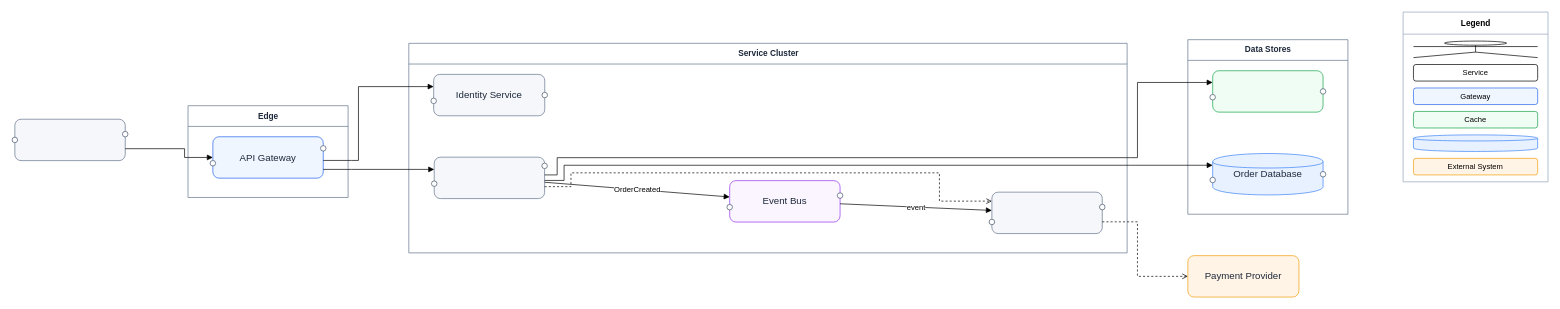
Image size: 1560x309. Some labels were removed from this diagram. Each missing label, with the centre of its shape:
"Actor / User" goes at (1475,49).
"Client" goes at (69,140).
"Database" goes at (1475,142).
"Order Service" goes at (489,177).
"Payment Service" goes at (1046,212).
"Redis" goes at (1267,91).
